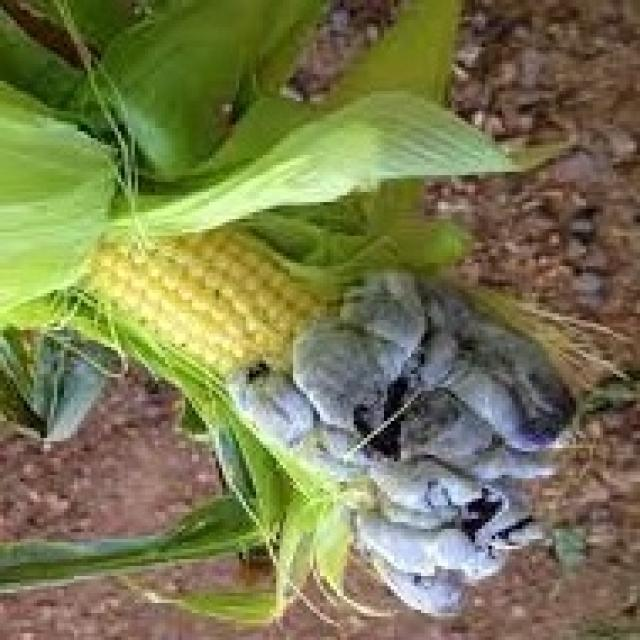Leaf_Scald: (38, 57, 640, 640)
